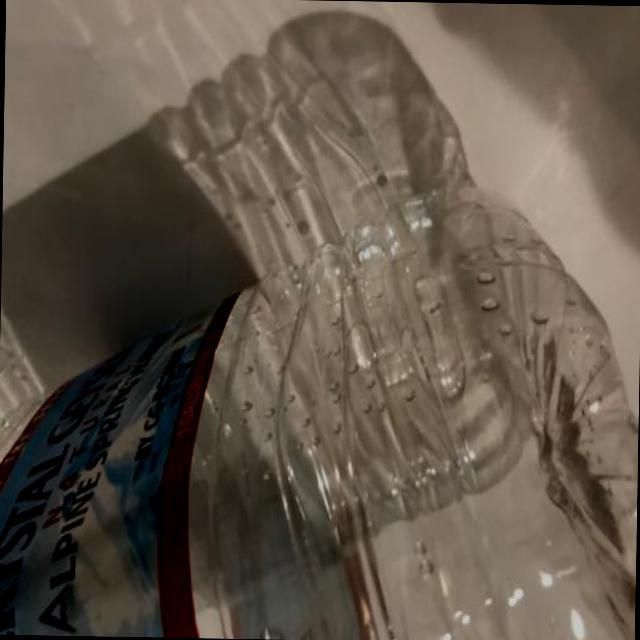Recycle: (0, 189, 640, 640)
